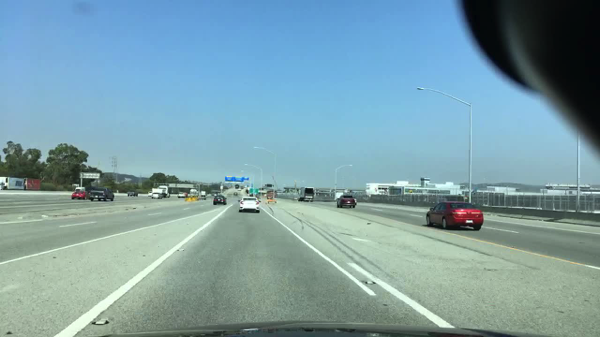car: (426, 203, 483, 231), (90, 186, 115, 202), (237, 197, 261, 213), (336, 196, 356, 208), (71, 191, 91, 199), (213, 195, 227, 206), (266, 197, 277, 205), (73, 187, 86, 192), (290, 196, 300, 202), (152, 193, 160, 200), (127, 191, 138, 196), (352, 195, 357, 206), (177, 192, 185, 198), (209, 192, 216, 198), (147, 191, 154, 197), (237, 185, 244, 190), (262, 193, 269, 198), (213, 191, 220, 196), (183, 191, 188, 198), (232, 192, 239, 197), (243, 184, 250, 188), (167, 192, 170, 200)
traffic sign: (160, 184, 194, 189), (79, 172, 100, 180), (250, 188, 258, 196), (335, 192, 343, 199), (233, 178, 244, 183), (264, 184, 274, 189), (222, 177, 232, 182), (243, 176, 250, 181), (219, 185, 223, 191)
truck: (1, 176, 26, 191), (298, 188, 314, 202), (24, 178, 40, 191), (152, 186, 168, 198), (267, 191, 278, 198), (190, 190, 199, 198), (201, 191, 208, 197)
